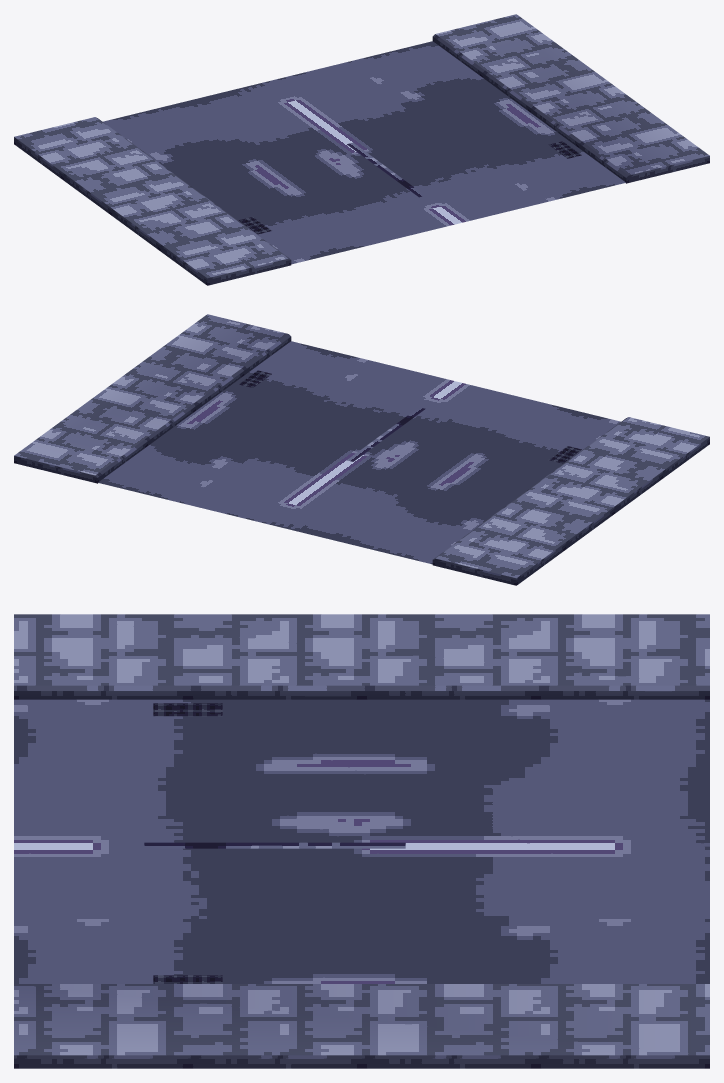
Rendered from cystreet.road.glb.
3 renders of one model, top to bottom at view 1: azimuth 30°, elevation 25°; view 2: azimuth 150°, elevation 25°; view 3: azimuth 270°, elevation 25°, orthographic. The views are drawn at different scales.
Parts seen in each view (by area): view 1: kit_shell_road, kit_walks, kit_card_paint; view 2: kit_shell_road, kit_walks, kit_card_paint; view 3: kit_shell_road, kit_walks, kit_card_paint.
Part boxes in pixels (bbox=[...]): kit_shell_road: bbox=[103, 41, 625, 264]; kit_walks: bbox=[14, 14, 709, 285]; kit_card_paint: bbox=[239, 141, 581, 234]; kit_shell_road: bbox=[98, 341, 620, 564]; kit_walks: bbox=[14, 314, 709, 585]; kit_card_paint: bbox=[238, 370, 581, 463]; kit_shell_road: bbox=[14, 699, 709, 983]; kit_walks: bbox=[14, 614, 709, 1068]; kit_card_paint: bbox=[144, 703, 405, 983].
Size of the model in its own units: 12 by 0.17 by 8.
Materials: 5 (5 with a texture image).
